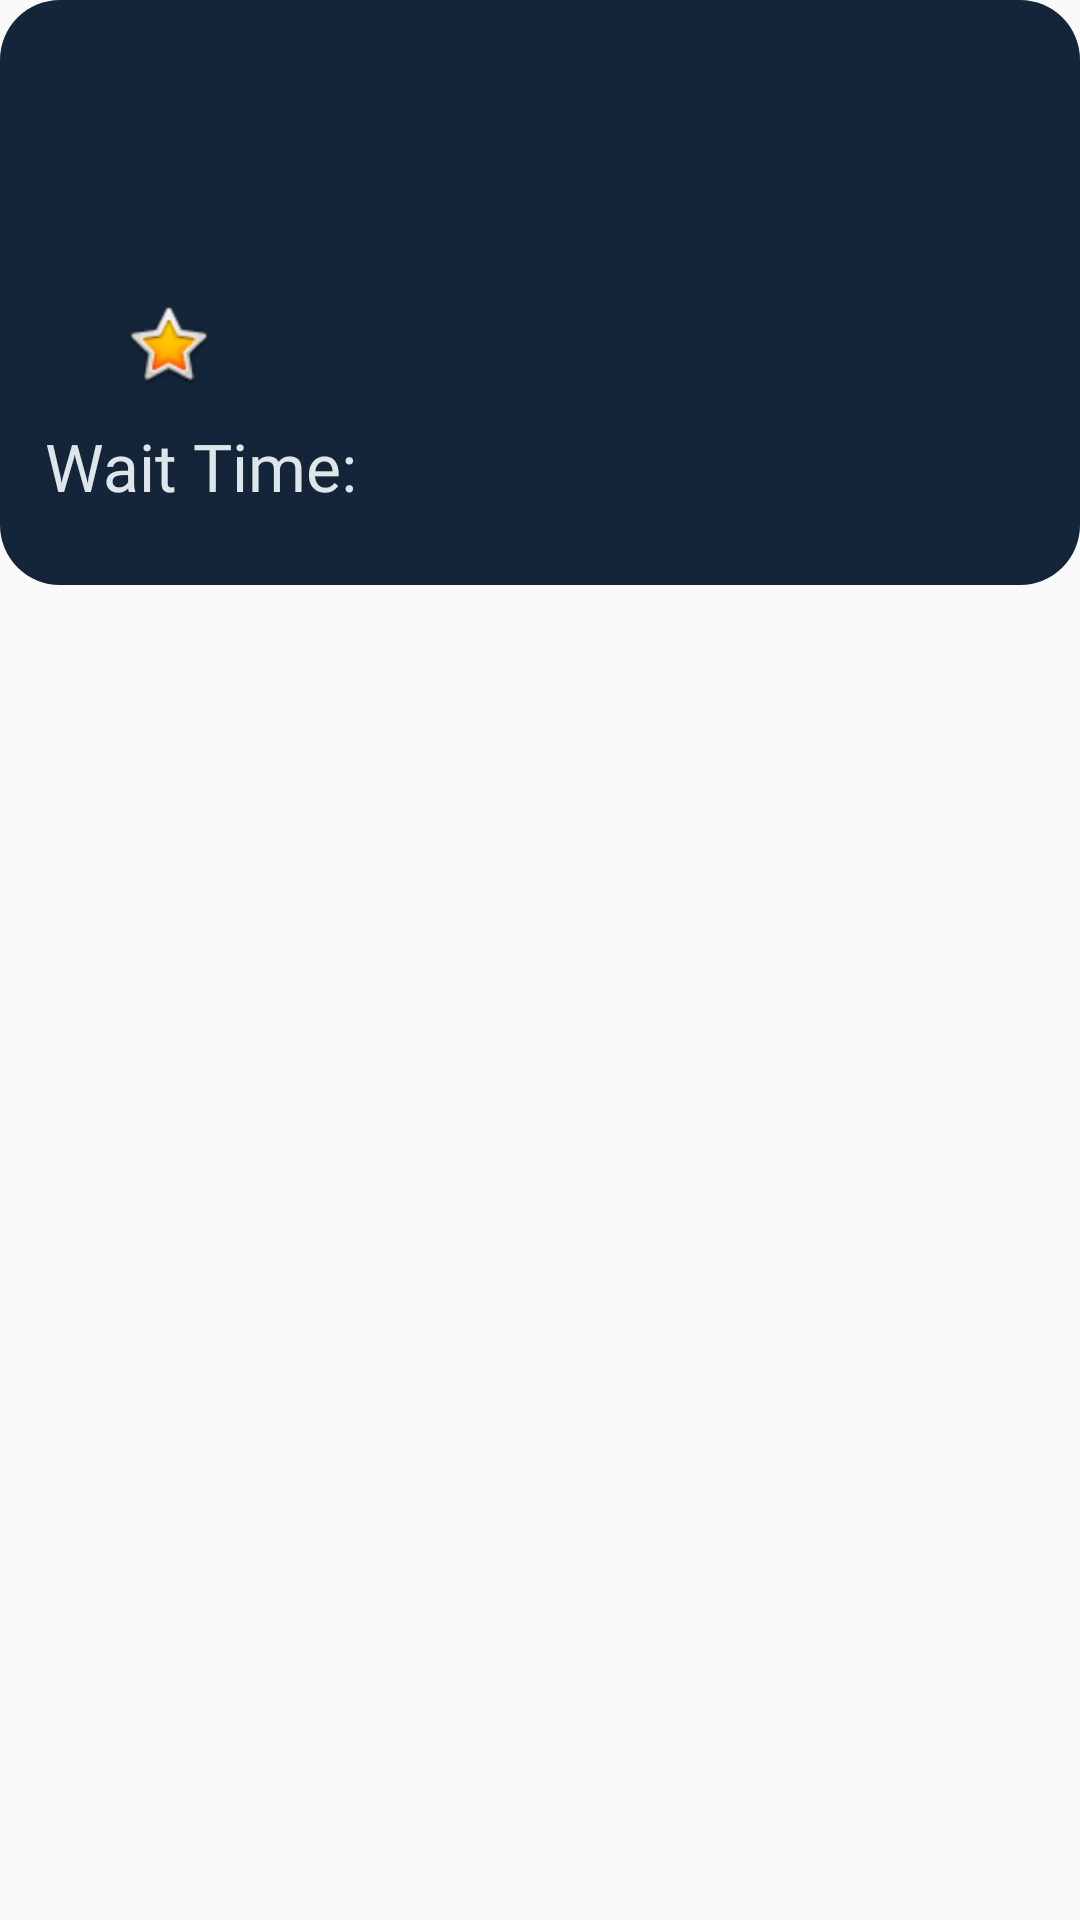

Icon click points for this 1080 x 1920 phone screenshot, format (x,y):
star on: (168,343)
